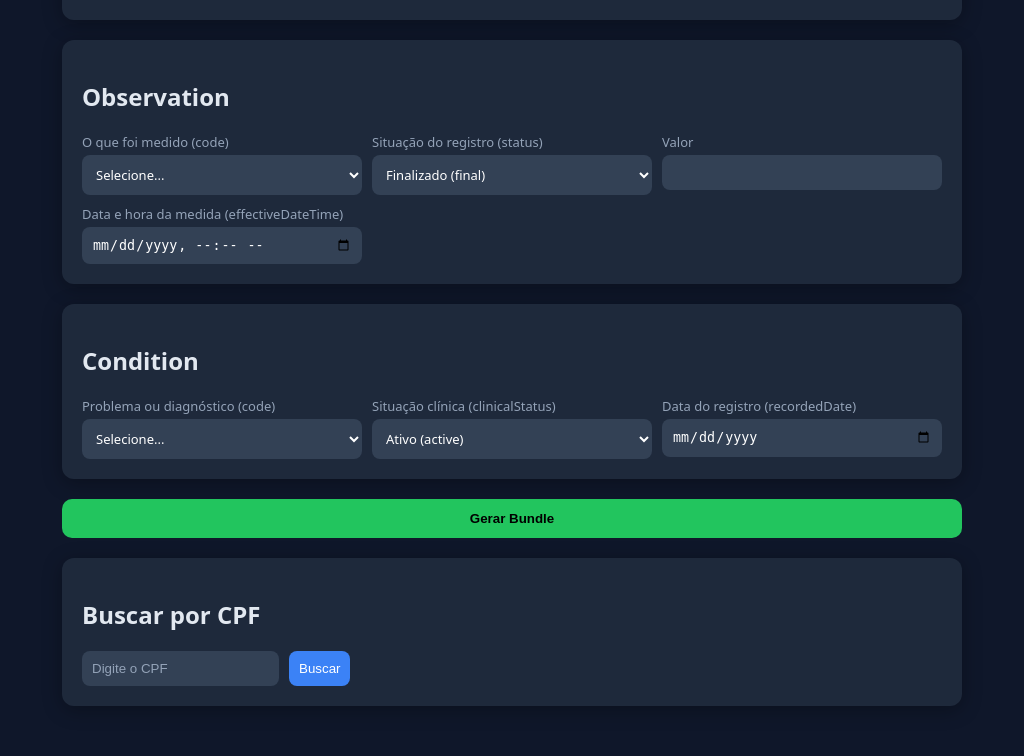
Test: erros de validação do backend aparecem junto de cada campo
This screenshot has width=1024, height=756.
(page scrolled)
What coordinates should you click on to do the following:
click the button "Gerar Bundle"
I would click on:
 (512, 519)
Its box is [62,499,962,538].
(page scrolled)
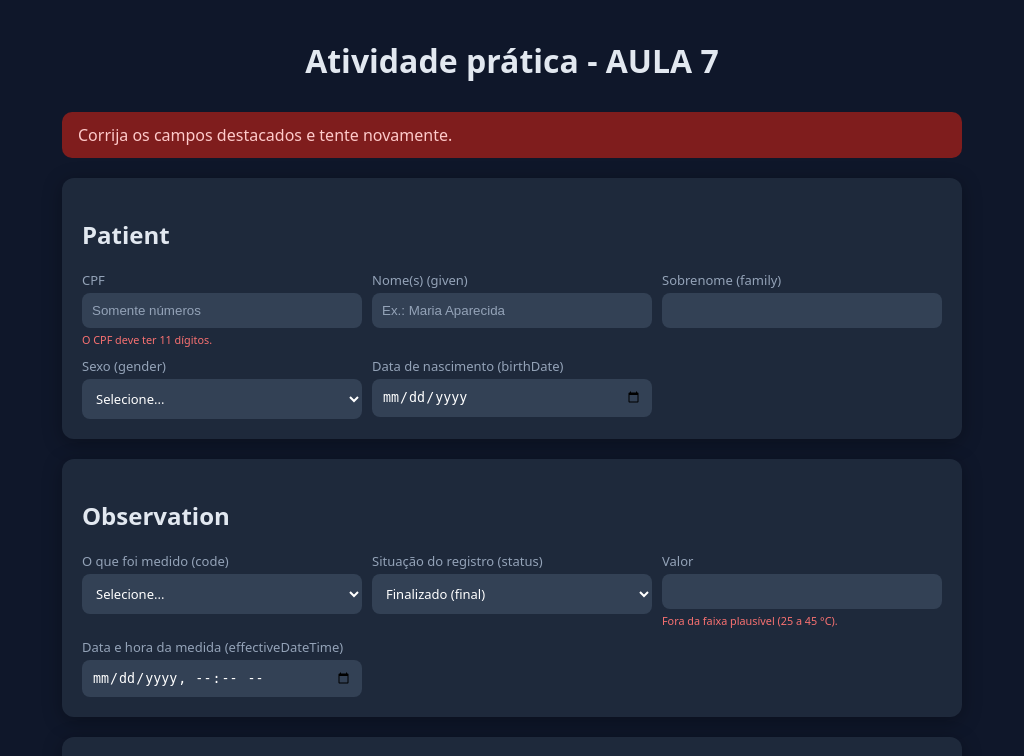
Check: the text "O CPF deve ter 11 dígitos." is shown, box [82,332,212,347]
Check: the text "Fora da faixa plausível (25 a 45 °C)." is shown, box [662,613,838,628]
Check: the message shows "Corrija os campos", box [78,124,452,146]
